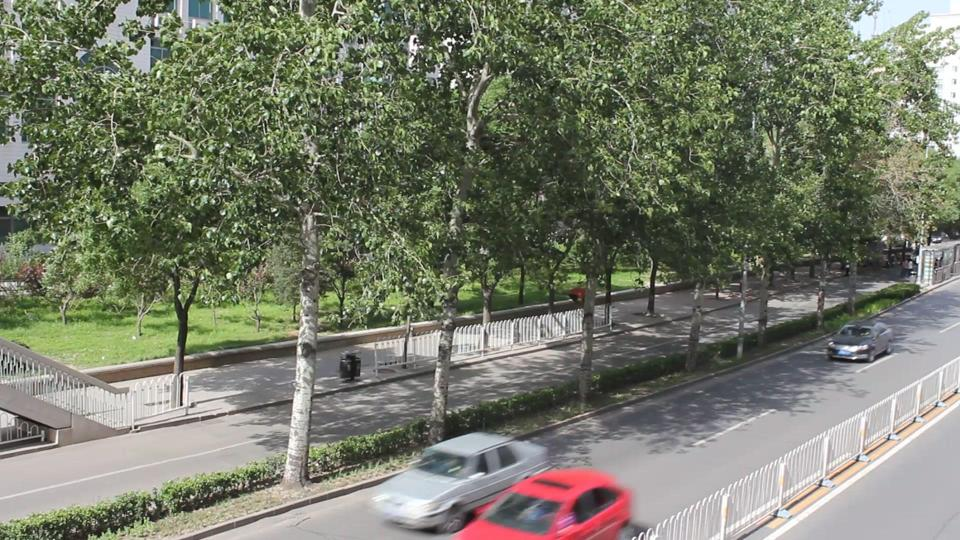Car: (370, 433, 546, 529), (468, 468, 624, 540), (826, 319, 889, 362)
